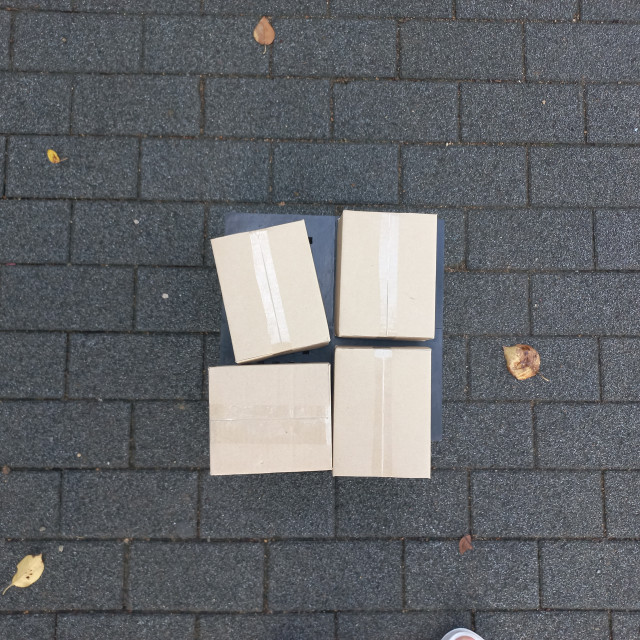box: (309, 276, 430, 422), (306, 164, 433, 279), (202, 299, 304, 430), (209, 161, 307, 296)
